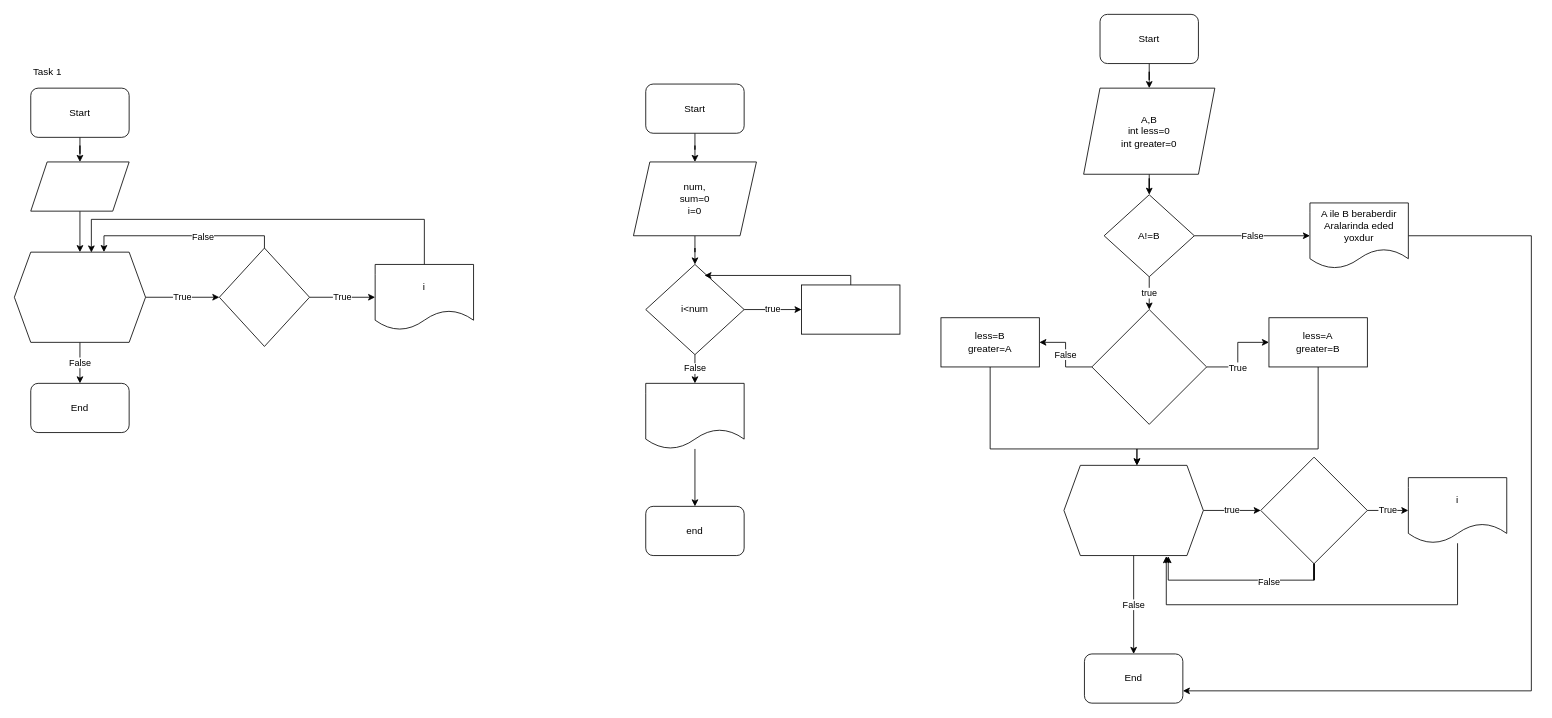
Image size: 1552x718. Some labels were removed from this diagram. Each missing label, with the centre of its shape:
"A<B" goes at point (1149, 366).
"i%2==0" goes at point (264, 296).
"i%3==0" goes at point (1313, 510).
"i=0; i<num; i++" goes at point (80, 296).
"i=less; i<greater; i++" goes at point (1133, 510).
"num=90" goes at point (79, 186).
"sum" goes at point (694, 416).
"sum+=i i++" goes at point (850, 309).
